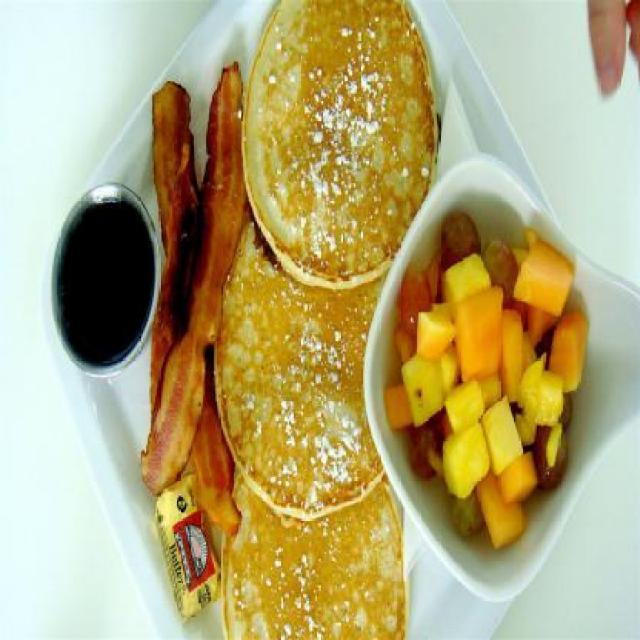Pancake: (231, 15, 443, 277), (213, 220, 390, 523), (221, 477, 410, 640)
